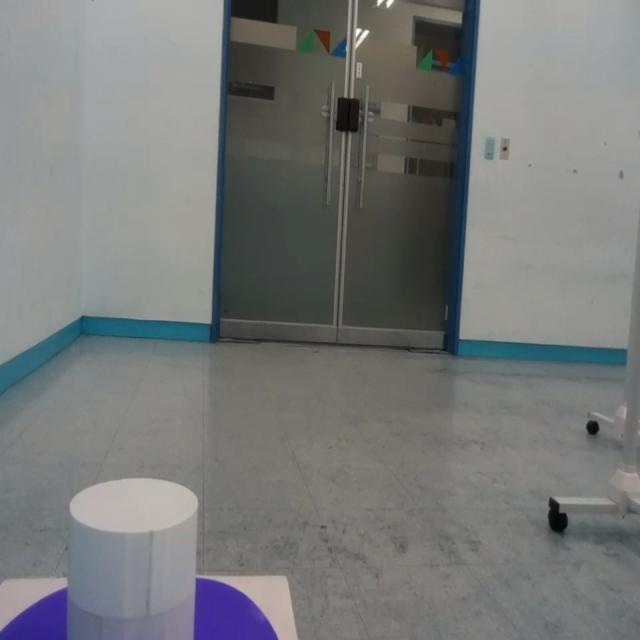cylinder: (67, 478, 199, 640)
